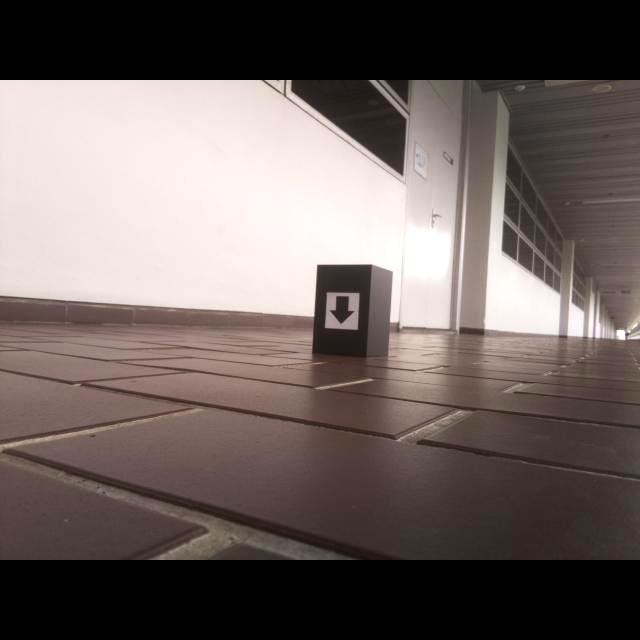DOWN: (328, 295, 356, 325)
